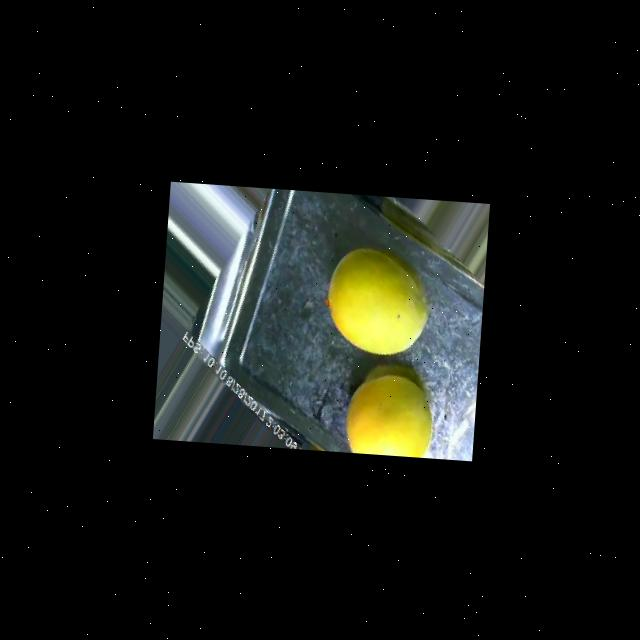Mango: (321, 245, 430, 358), (341, 370, 434, 457)
